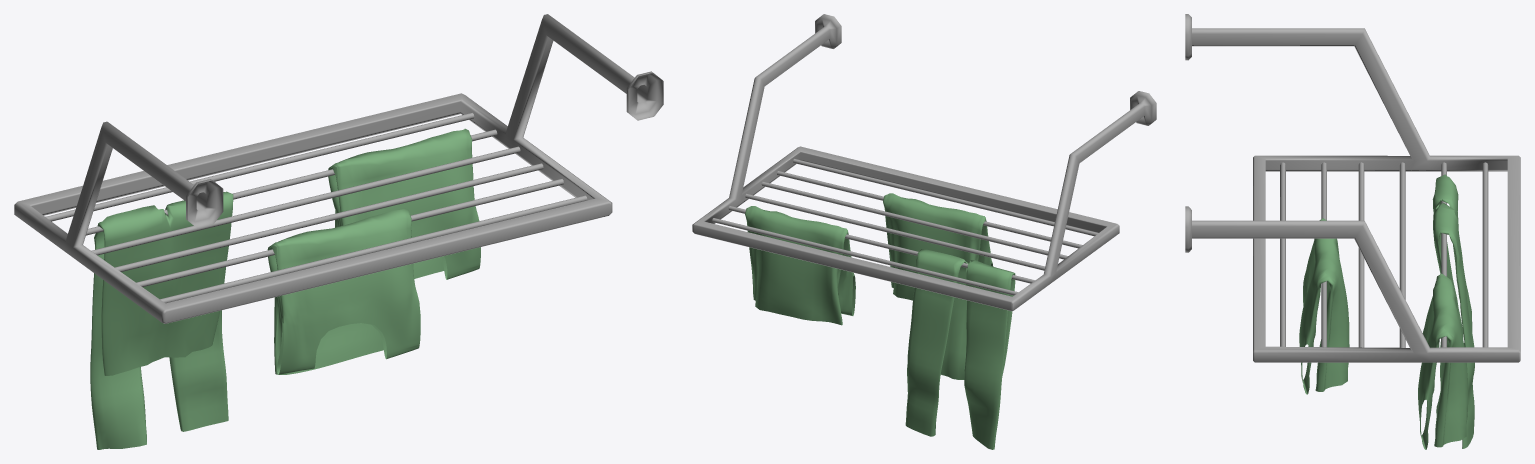
Rendered from etendoir_linge_low.fbx.
The picture shows the model from 3 angles, left to right: view 1: azimuth 30°, elevation 25°; view 2: azimuth 150°, elevation 25°; view 3: azimuth 270°, elevation 25°; orthographic projection. The views are drawn at different scales.
Parts seen in each view (by area): view 1: pCube11, polySurface17; view 2: pCube11, polySurface17; view 3: polySurface17, pCube11.
Part boxes in pixels (x1=…): pCube11: x1=90, y1=128, x2=480, y2=449; polySurface17: x1=14, y1=14, x2=663, y2=323; pCube11: x1=745, y1=193, x2=1015, y2=449; polySurface17: x1=692, y1=14, x2=1156, y2=311; polySurface17: x1=1185, y1=14, x2=1520, y2=362; pCube11: x1=1299, y1=174, x2=1474, y2=449.
Bounding box in the file's own units: 112 × 89.7 × 76.57.
